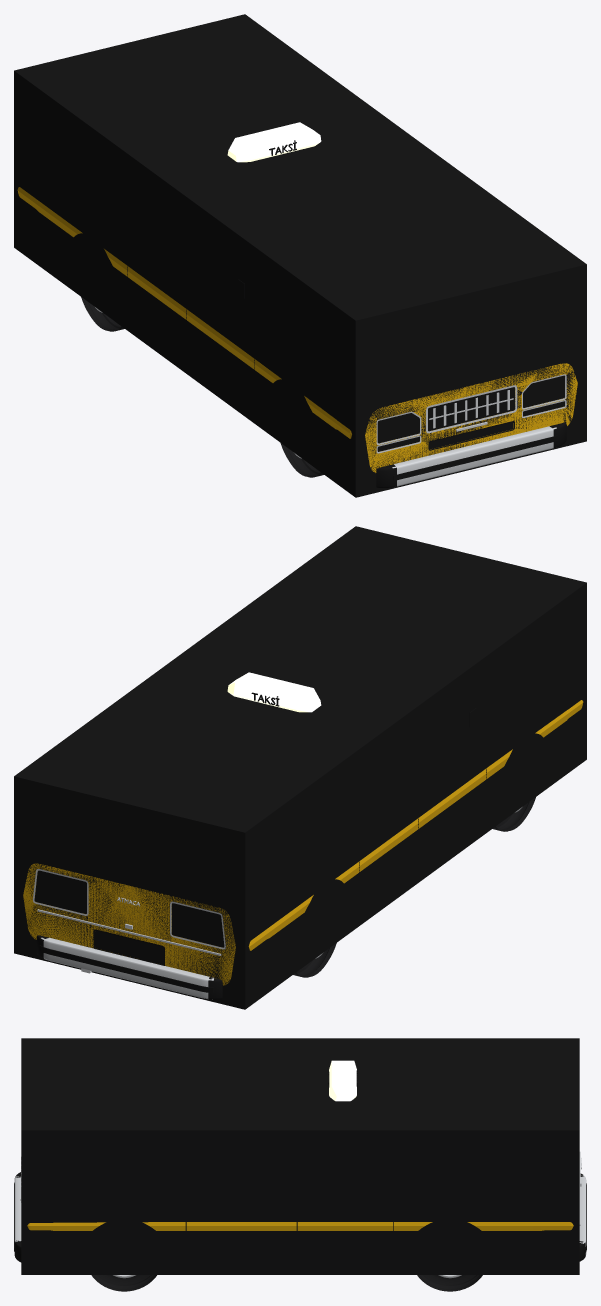
Rendered from atmaca_taxi_lod0.glb.
3 views of the same model, one above another, from view 1: azimuth 30°, elevation 25°; view 2: azimuth 150°, elevation 25°; view 3: azimuth 270°, elevation 25° (orthographic). The views are drawn at different scales.
Visible parts, largest first — view 1: col_body, body, trim; view 2: col_body, body, trim; view 3: col_body, body, trim, wheel_RL, wheel_FL.
Boxes of the visible parts, x1,y1,x2,y2 form: col_body: (14, 14, 586, 497); body: (17, 187, 577, 472); trim: (227, 122, 566, 487); col_body: (14, 526, 586, 1009); body: (23, 700, 583, 985); trim: (33, 672, 476, 999); col_body: (21, 1038, 579, 1274); body: (27, 1222, 573, 1230); trim: (14, 1060, 586, 1262); wheel_RL: (417, 1275, 482, 1291); wheel_FL: (91, 1275, 156, 1291).
Size of the model in its own units: 1.65 by 1.46 by 4.31.
